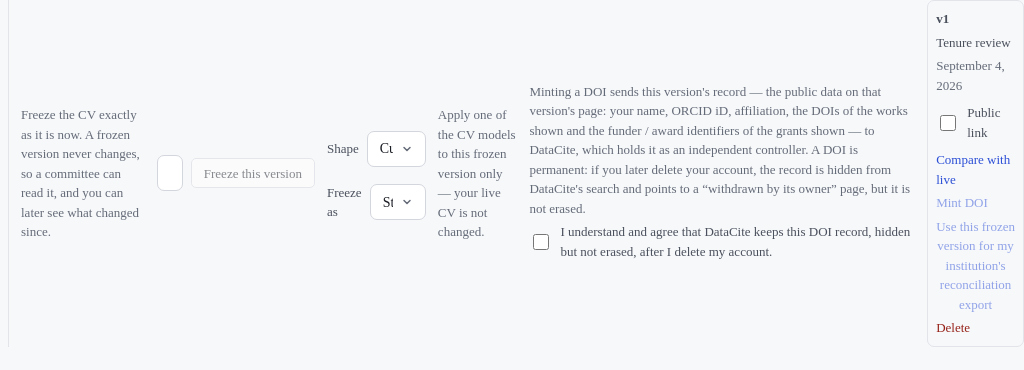
Scenario: VersionsControls › with minting enabled, requires the version to be public AND explicit consent, then mints
Check: the text "Tenure review" is shown, box [936,32,1015,52]
Check: the button "Mint DOI" is disabled, box [936,193,988,212]
Click the checkbox labelled "Public link" at (948, 122), box [940,114,956,130]
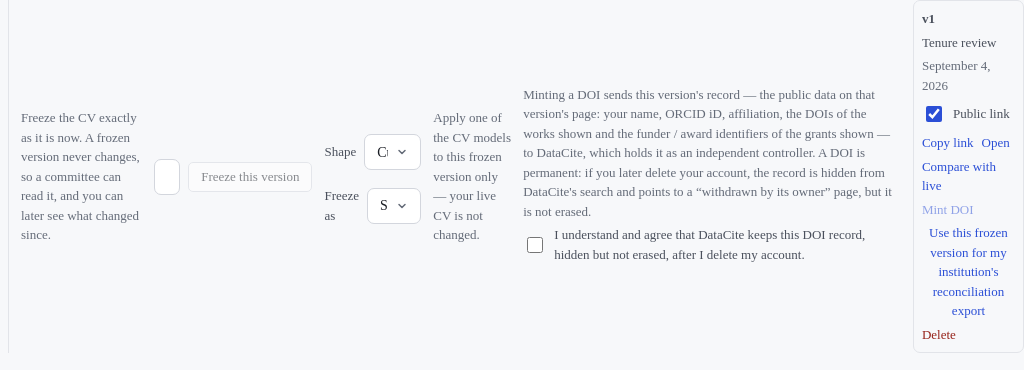
Check: the button "Mint DOI" is disabled, box [922,200,974,219]
Check: the element with test id "mint-consent" shows "DataCite", box [523,87,892,219]
Click the checkbox labelled "I understand and agree" at (535, 245), box [527,237,543,253]
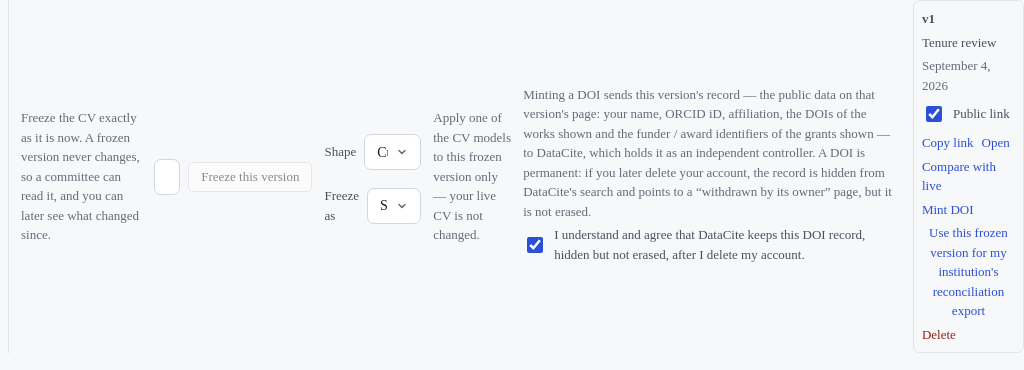
Check: the button "Copy link" is shown, box [922,133,974,152]
Check: the button "Mint DOI" is enabled
Click the button "Mint DOI" at (948, 209), box [922,200,974,219]
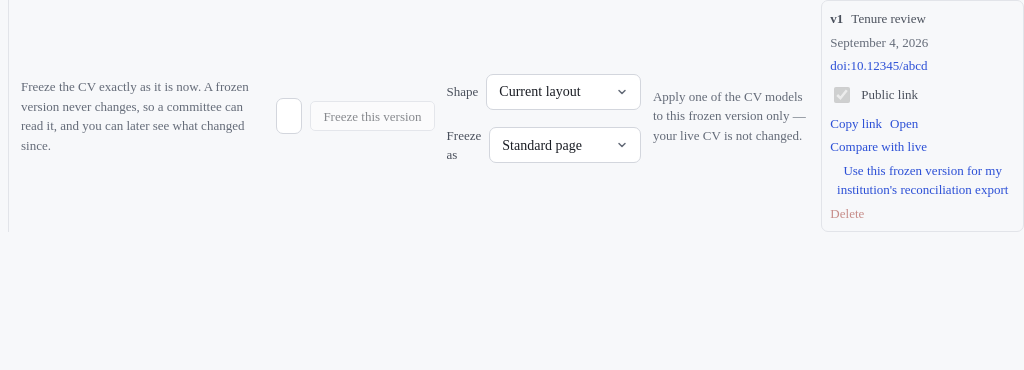
Check: the link "doi:10.12345/abcd" is shown, box [830,58,928,73]
Check: the button "Mint DOI" is gone
Check: the checkbox labelled "Public link" is disabled, box [834,86,850,102]
